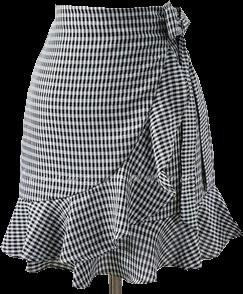Hemline: (0, 77, 197, 265), (24, 232, 242, 290)
Waistline: (20, 32, 182, 202), (54, 1, 167, 9)
